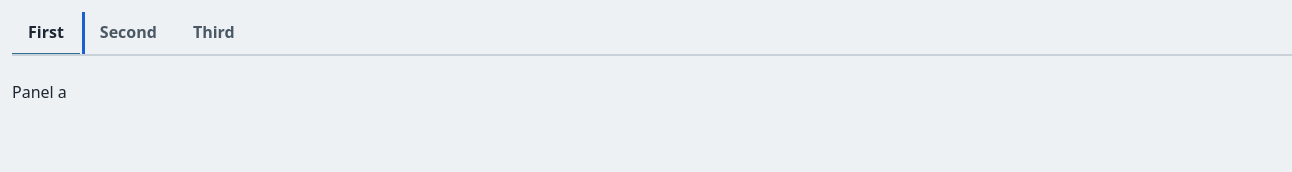
Tabs › follows the WAI-ARIA tabs pattern with arrow, Home and End keys
Press Arrowright
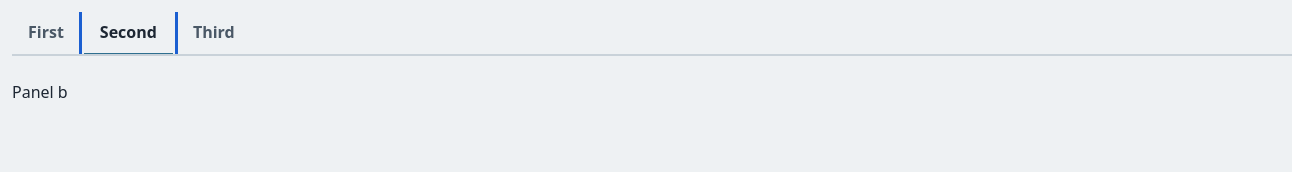
Expected: the text "Panel b" is shown, 12,81 -> 68,103
Press End
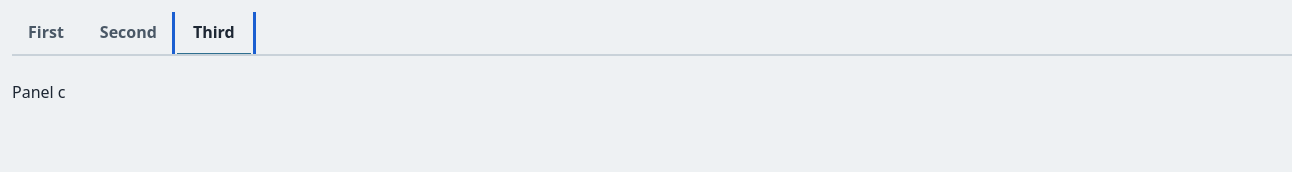
Expected: the tab "Third" is selected, 177,12 -> 251,56
Press Arrowright
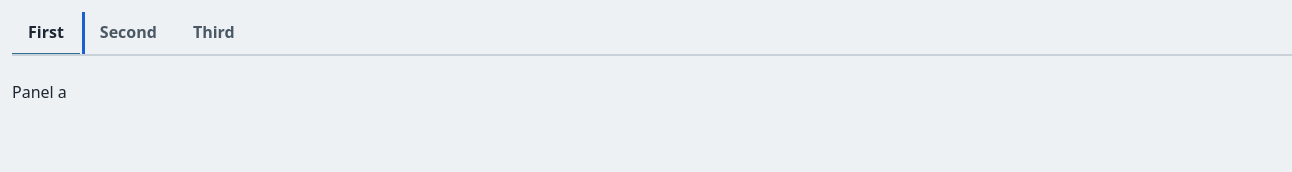
Press Arrowleft Home
Expected: the tab "First" has attribute tabindex="0", 12,12 -> 80,56
Type keys "x"
Click the tab "Second" at (128, 34), box 84,12 -> 173,56
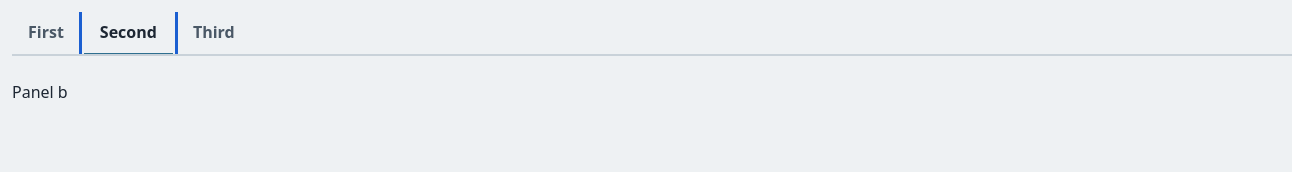
Expected: the text "Panel b" is shown, 12,81 -> 68,103
